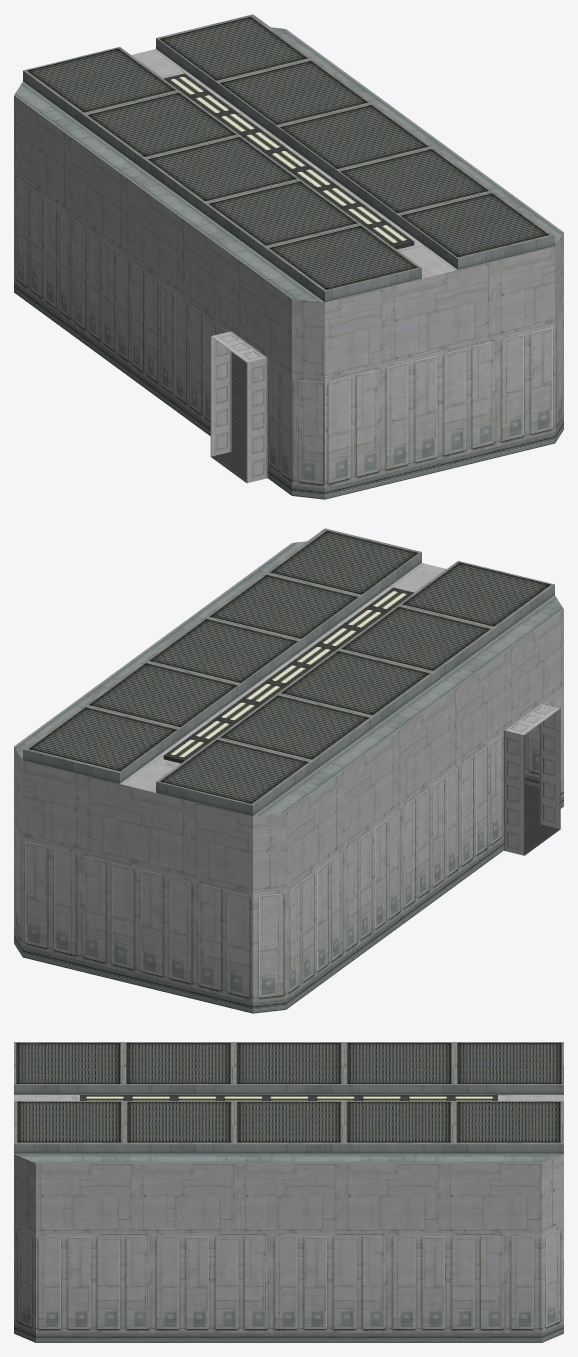
File: ply_corl_assoc_hall_civ_s01_r14_meeting2_meshr_14.fbx
The picture shows the model from 3 angles, top to bottom: view 1: azimuth 30°, elevation 25°; view 2: azimuth 150°, elevation 25°; view 3: azimuth 270°, elevation 25°; orthographic projection. The views are drawn at different scales.
Parts seen in each view (by area): view 1: mesh_node; view 2: mesh_node; view 3: mesh_node.
Boxes of the visible parts, bbox=[...] form: mesh_node: bbox=[14, 14, 563, 499]; mesh_node: bbox=[14, 528, 563, 1013]; mesh_node: bbox=[14, 1042, 563, 1342].
Size of the model in its own units: 7 by 4.75 by 12.5.
